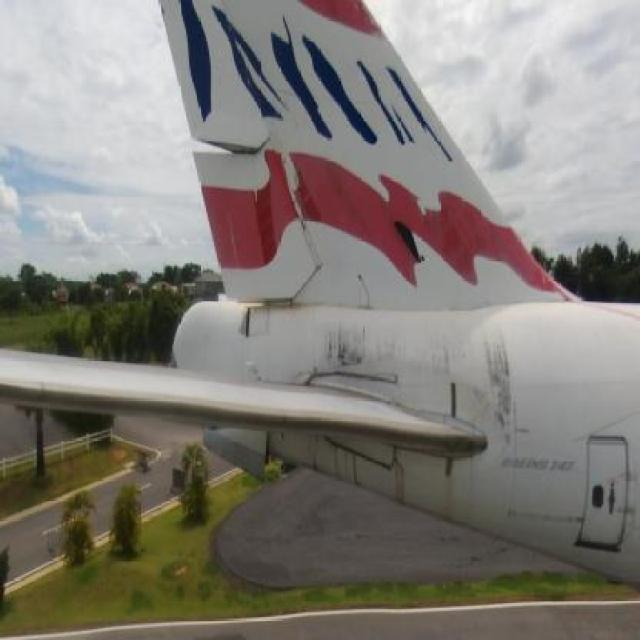Rust: (383, 325, 482, 392), (321, 308, 382, 379), (482, 320, 516, 443), (300, 427, 365, 485), (438, 452, 469, 542), (386, 446, 409, 514), (291, 202, 323, 248)
Scartch: (507, 499, 585, 536), (508, 395, 541, 442), (232, 296, 262, 341)
